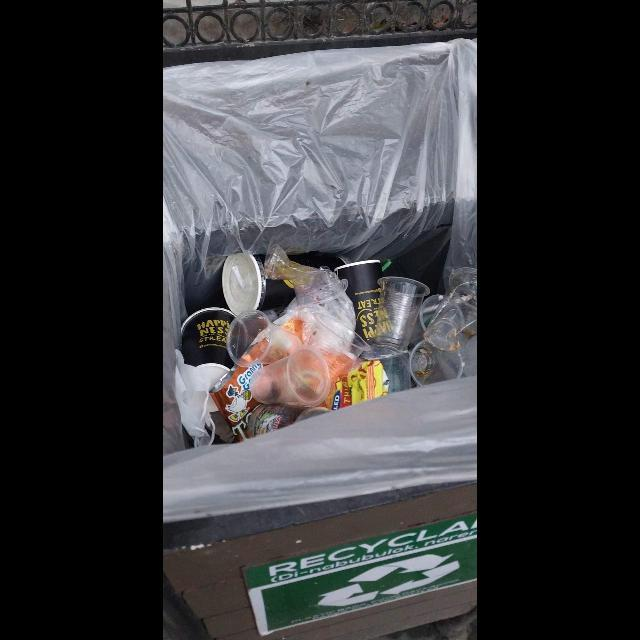cardboard: (181, 307, 236, 389), (334, 260, 384, 345)
food_wrapper: (211, 316, 389, 441)
plastic_container: (250, 346, 333, 410), (264, 245, 348, 306), (424, 267, 477, 352), (226, 310, 303, 368), (371, 277, 430, 351), (409, 340, 465, 387), (359, 344, 411, 394)
